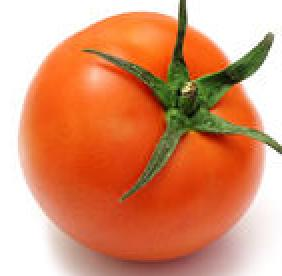tomato: (21, 11, 267, 263)
